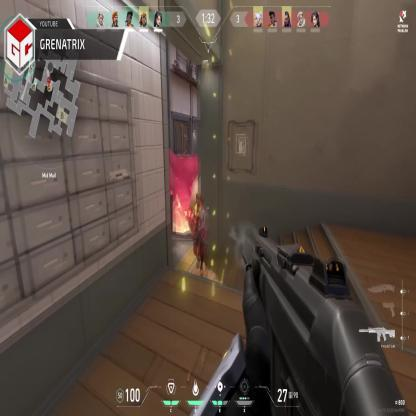enemy: (191, 195, 207, 272)
enemy_head: (196, 194, 200, 207)
